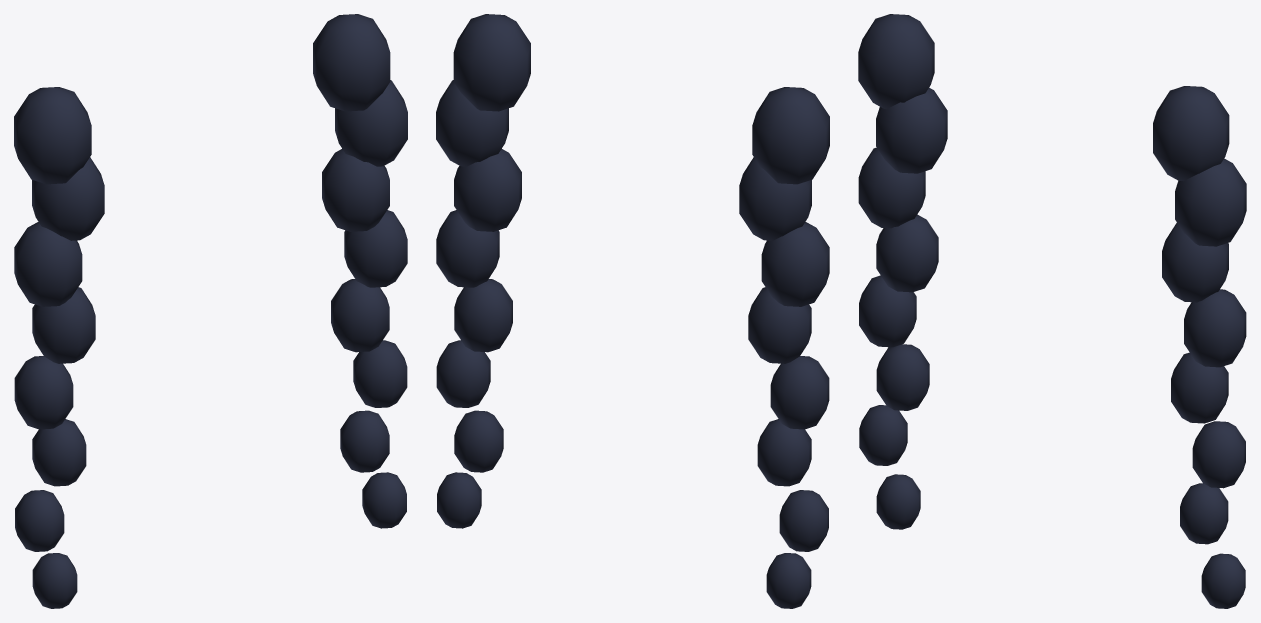
Rendered from anime_braids.glb.
The picture shows the model from 3 angles, left to right: view 1: azimuth 30°, elevation 25°; view 2: azimuth 150°, elevation 25°; view 3: azimuth 330°, elevation 25°; orthographic projection.
Visible parts, largest first — view 1: braids; view 2: braids; view 3: braids.
Boxes of the visible parts, box(x1,y1,x2,y2) form: braids: box(14, 14, 407, 608); braids: box(436, 14, 829, 608); braids: box(858, 14, 1246, 608).
Bounding box in the file's own units: 0.35 × 0.45 × 0.0628.
